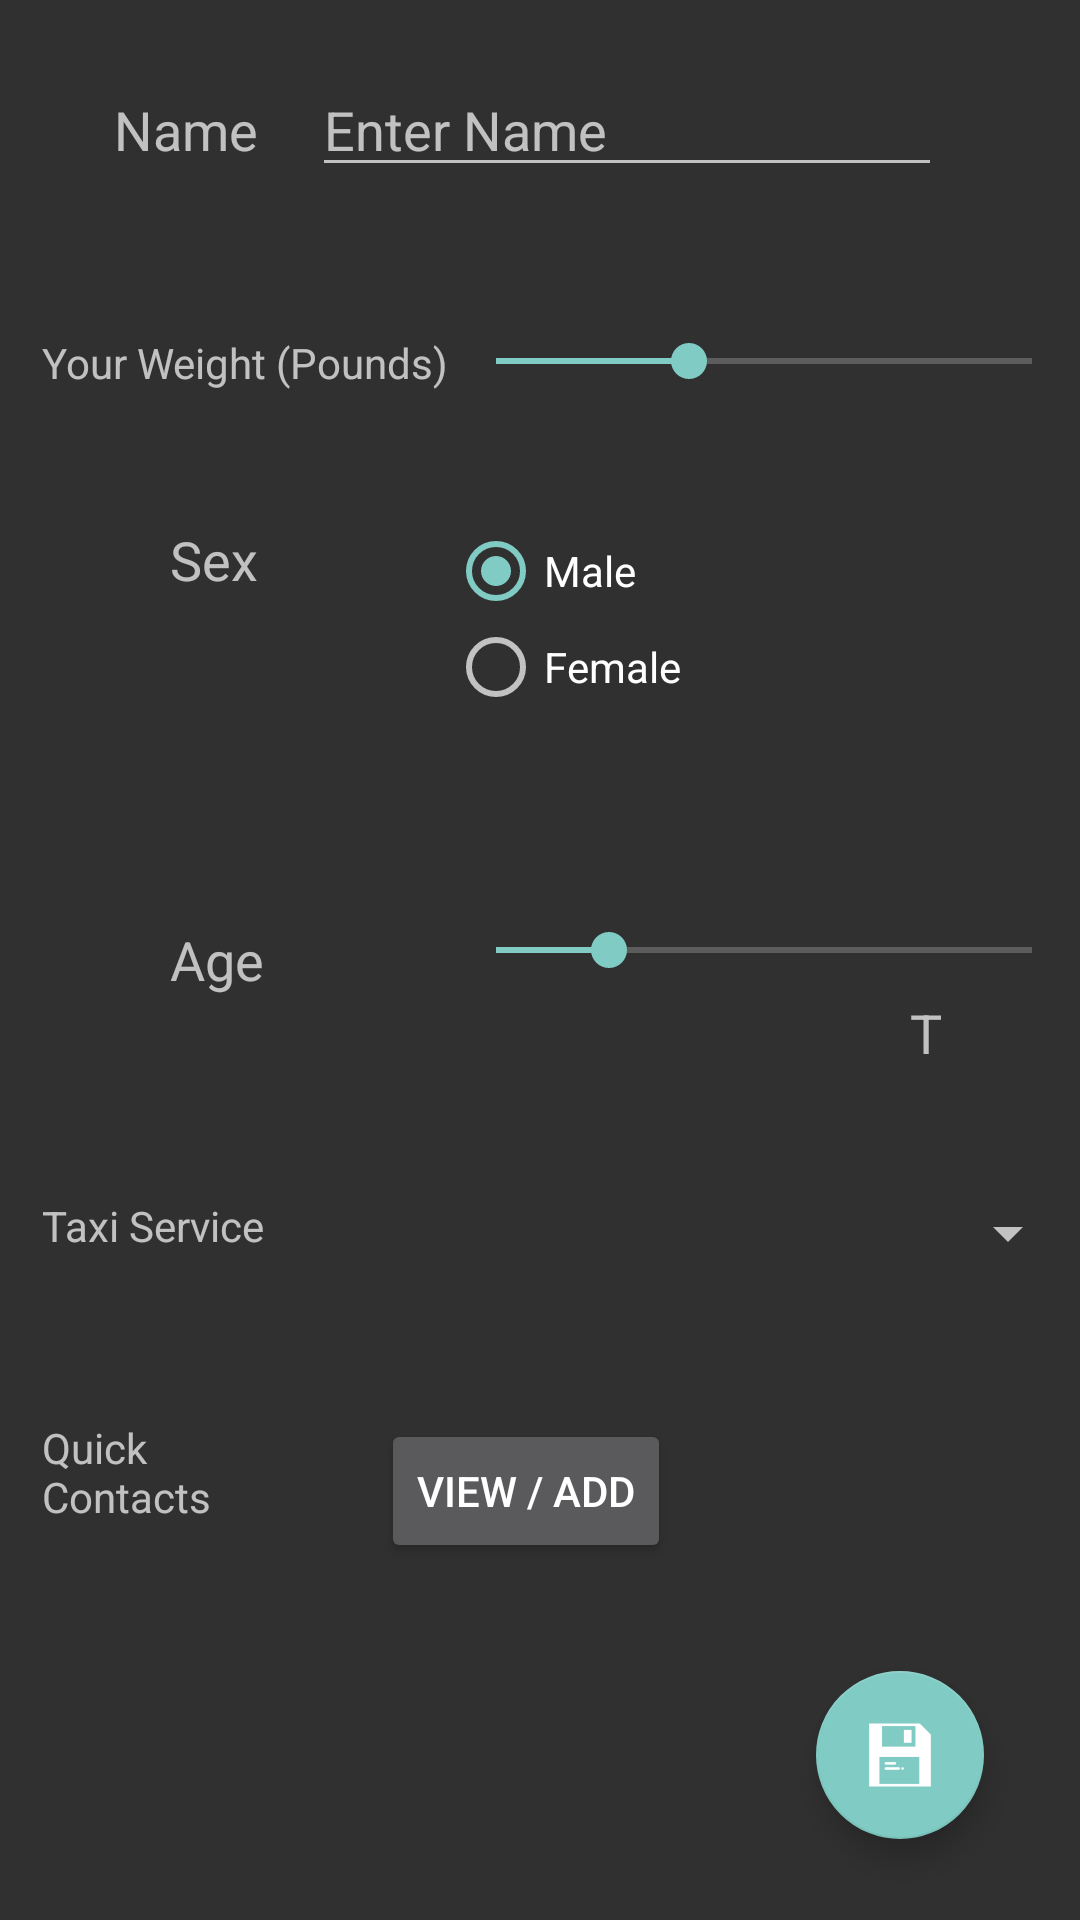

Named icons in this screenshot (1080*1920) and their centers, [x,y]:
save: [900,1755]
